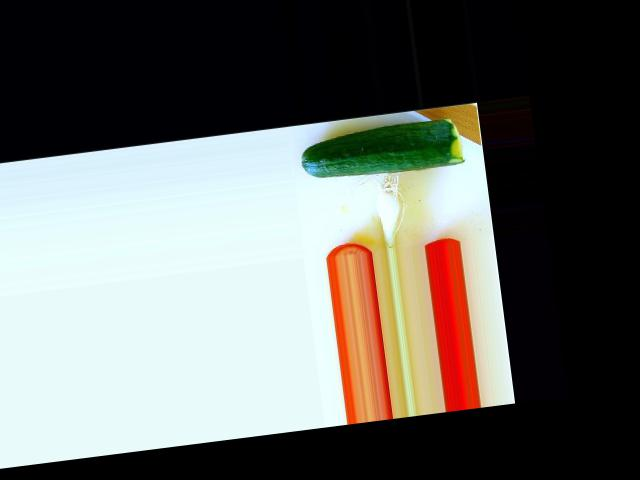cucumber: (296, 116, 464, 183)
